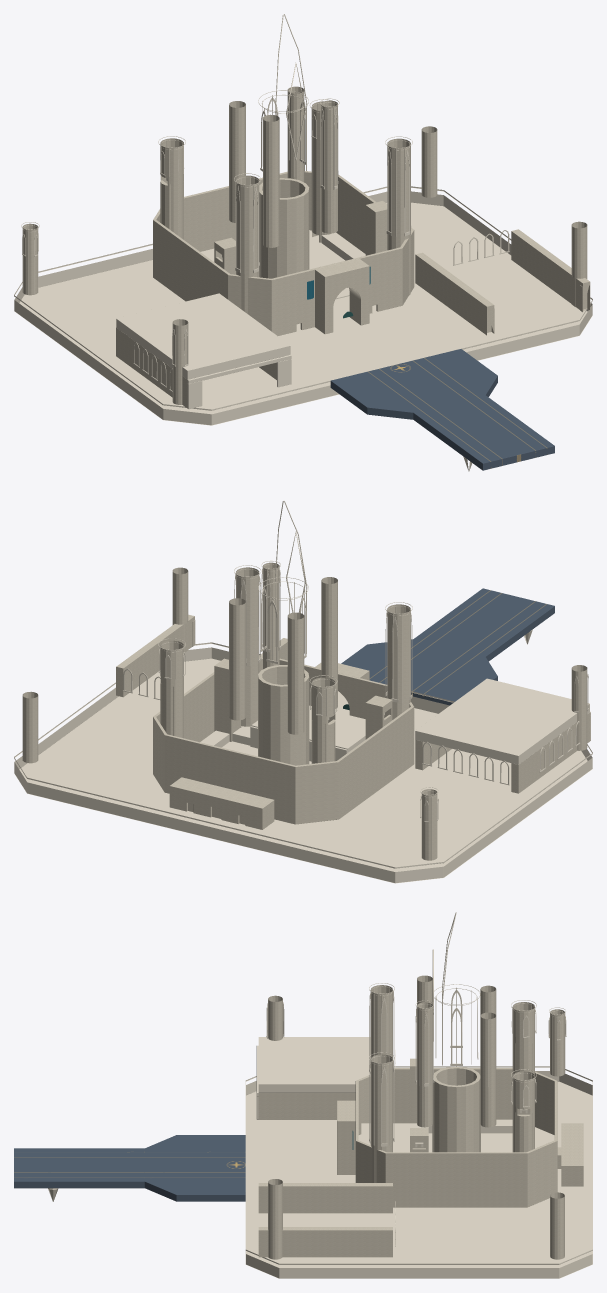
The model's file is Spaceport-00.glb.
The picture shows the model from 3 angles, top to bottom: view 1: azimuth 30°, elevation 25°; view 2: azimuth 150°, elevation 25°; view 3: azimuth 270°, elevation 25°; orthographic projection. The views are drawn at different scales.
Visible parts, largest first — view 1: NSP01.Native.0.0.Ivory, NSP01.Native.0.2.Masonry, NSP01.Native.0.3.FilteredApproach, NSP01.Native.0.1.Ivory; view 2: NSP01.Native.0.0.Ivory, NSP01.Native.0.2.Masonry, NSP01.Native.0.3.FilteredApproach, NSP01.Native.0.1.Ivory; view 3: NSP01.Native.0.2.Masonry, NSP01.Native.0.0.Ivory, NSP01.Native.0.3.FilteredApproach, NSP01.Native.0.1.Ivory.
Boxes of the visible parts, x1,y1,x2,y2 form: NSP01.Native.0.0.Ivory: (14,14,592,471); NSP01.Native.0.2.Masonry: (22,86,590,408); NSP01.Native.0.3.FilteredApproach: (330,349,554,470); NSP01.Native.0.1.Ivory: (21,99,412,366); NSP01.Native.0.0.Ivory: (14,500,592,883); NSP01.Native.0.2.Masonry: (22,562,590,860); NSP01.Native.0.3.FilteredApproach: (341,588,554,705); NSP01.Native.0.1.Ivory: (158,565,588,860); NSP01.Native.0.2.Masonry: (258,975,583,1259); NSP01.Native.0.0.Ivory: (48,912,592,1278); NSP01.Native.0.3.FilteredApproach: (14,1135,245,1201); NSP01.Native.0.1.Ivory: (266,983,566,1146).
Bounding box in the file's own units: 500 × 326 × 620.
5 materials, 2 textured.
